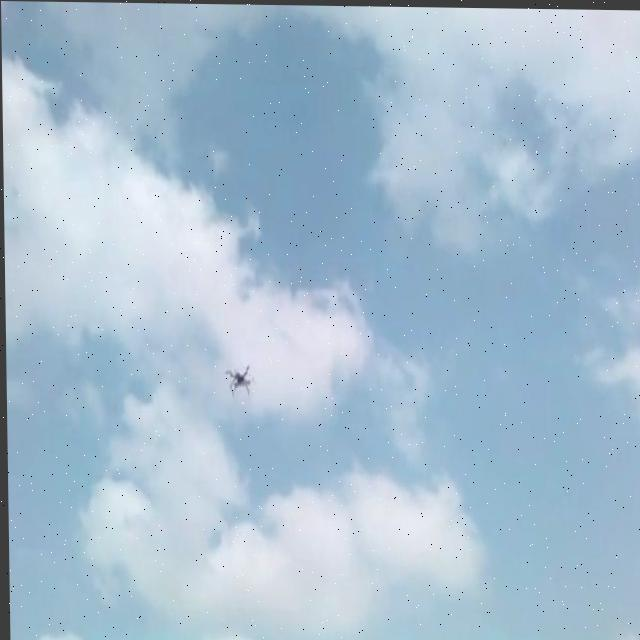drone: (219, 352, 254, 397)
